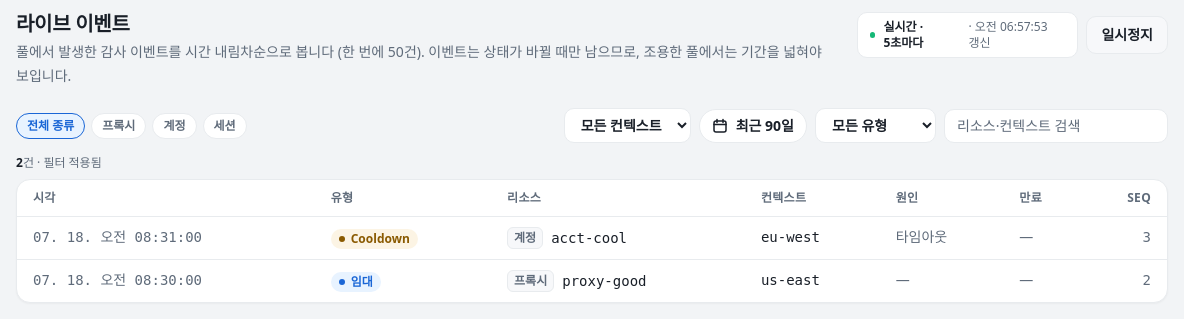
Test case: 라이브 이벤트 화면 (integration + MSW) › 종류 필터(프록시)를 누르면 목록이 좁혀진다
Expected: the text "proxy-good" is shown, [562,271,646,291]
Expected: the text "acct-cool" is shown, [551,228,627,248]
Click the button "프록시" at (119, 126), box [91,113,146,139]
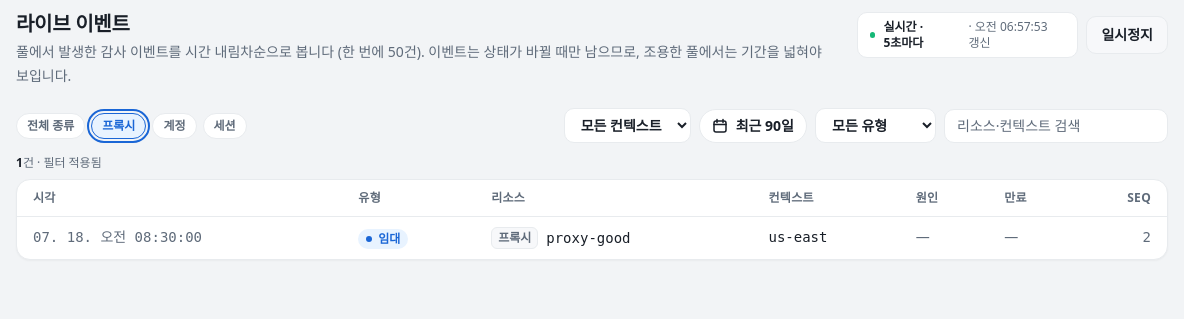
Expected: the text "proxy-good" is shown, [546,228,631,248]
Now the text "acct-cool" is gone
